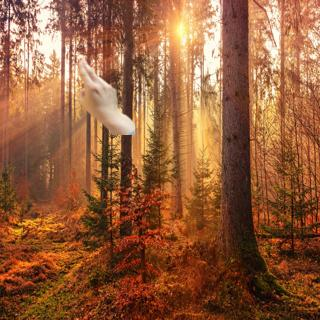DHAVE: (70, 54, 125, 123)
